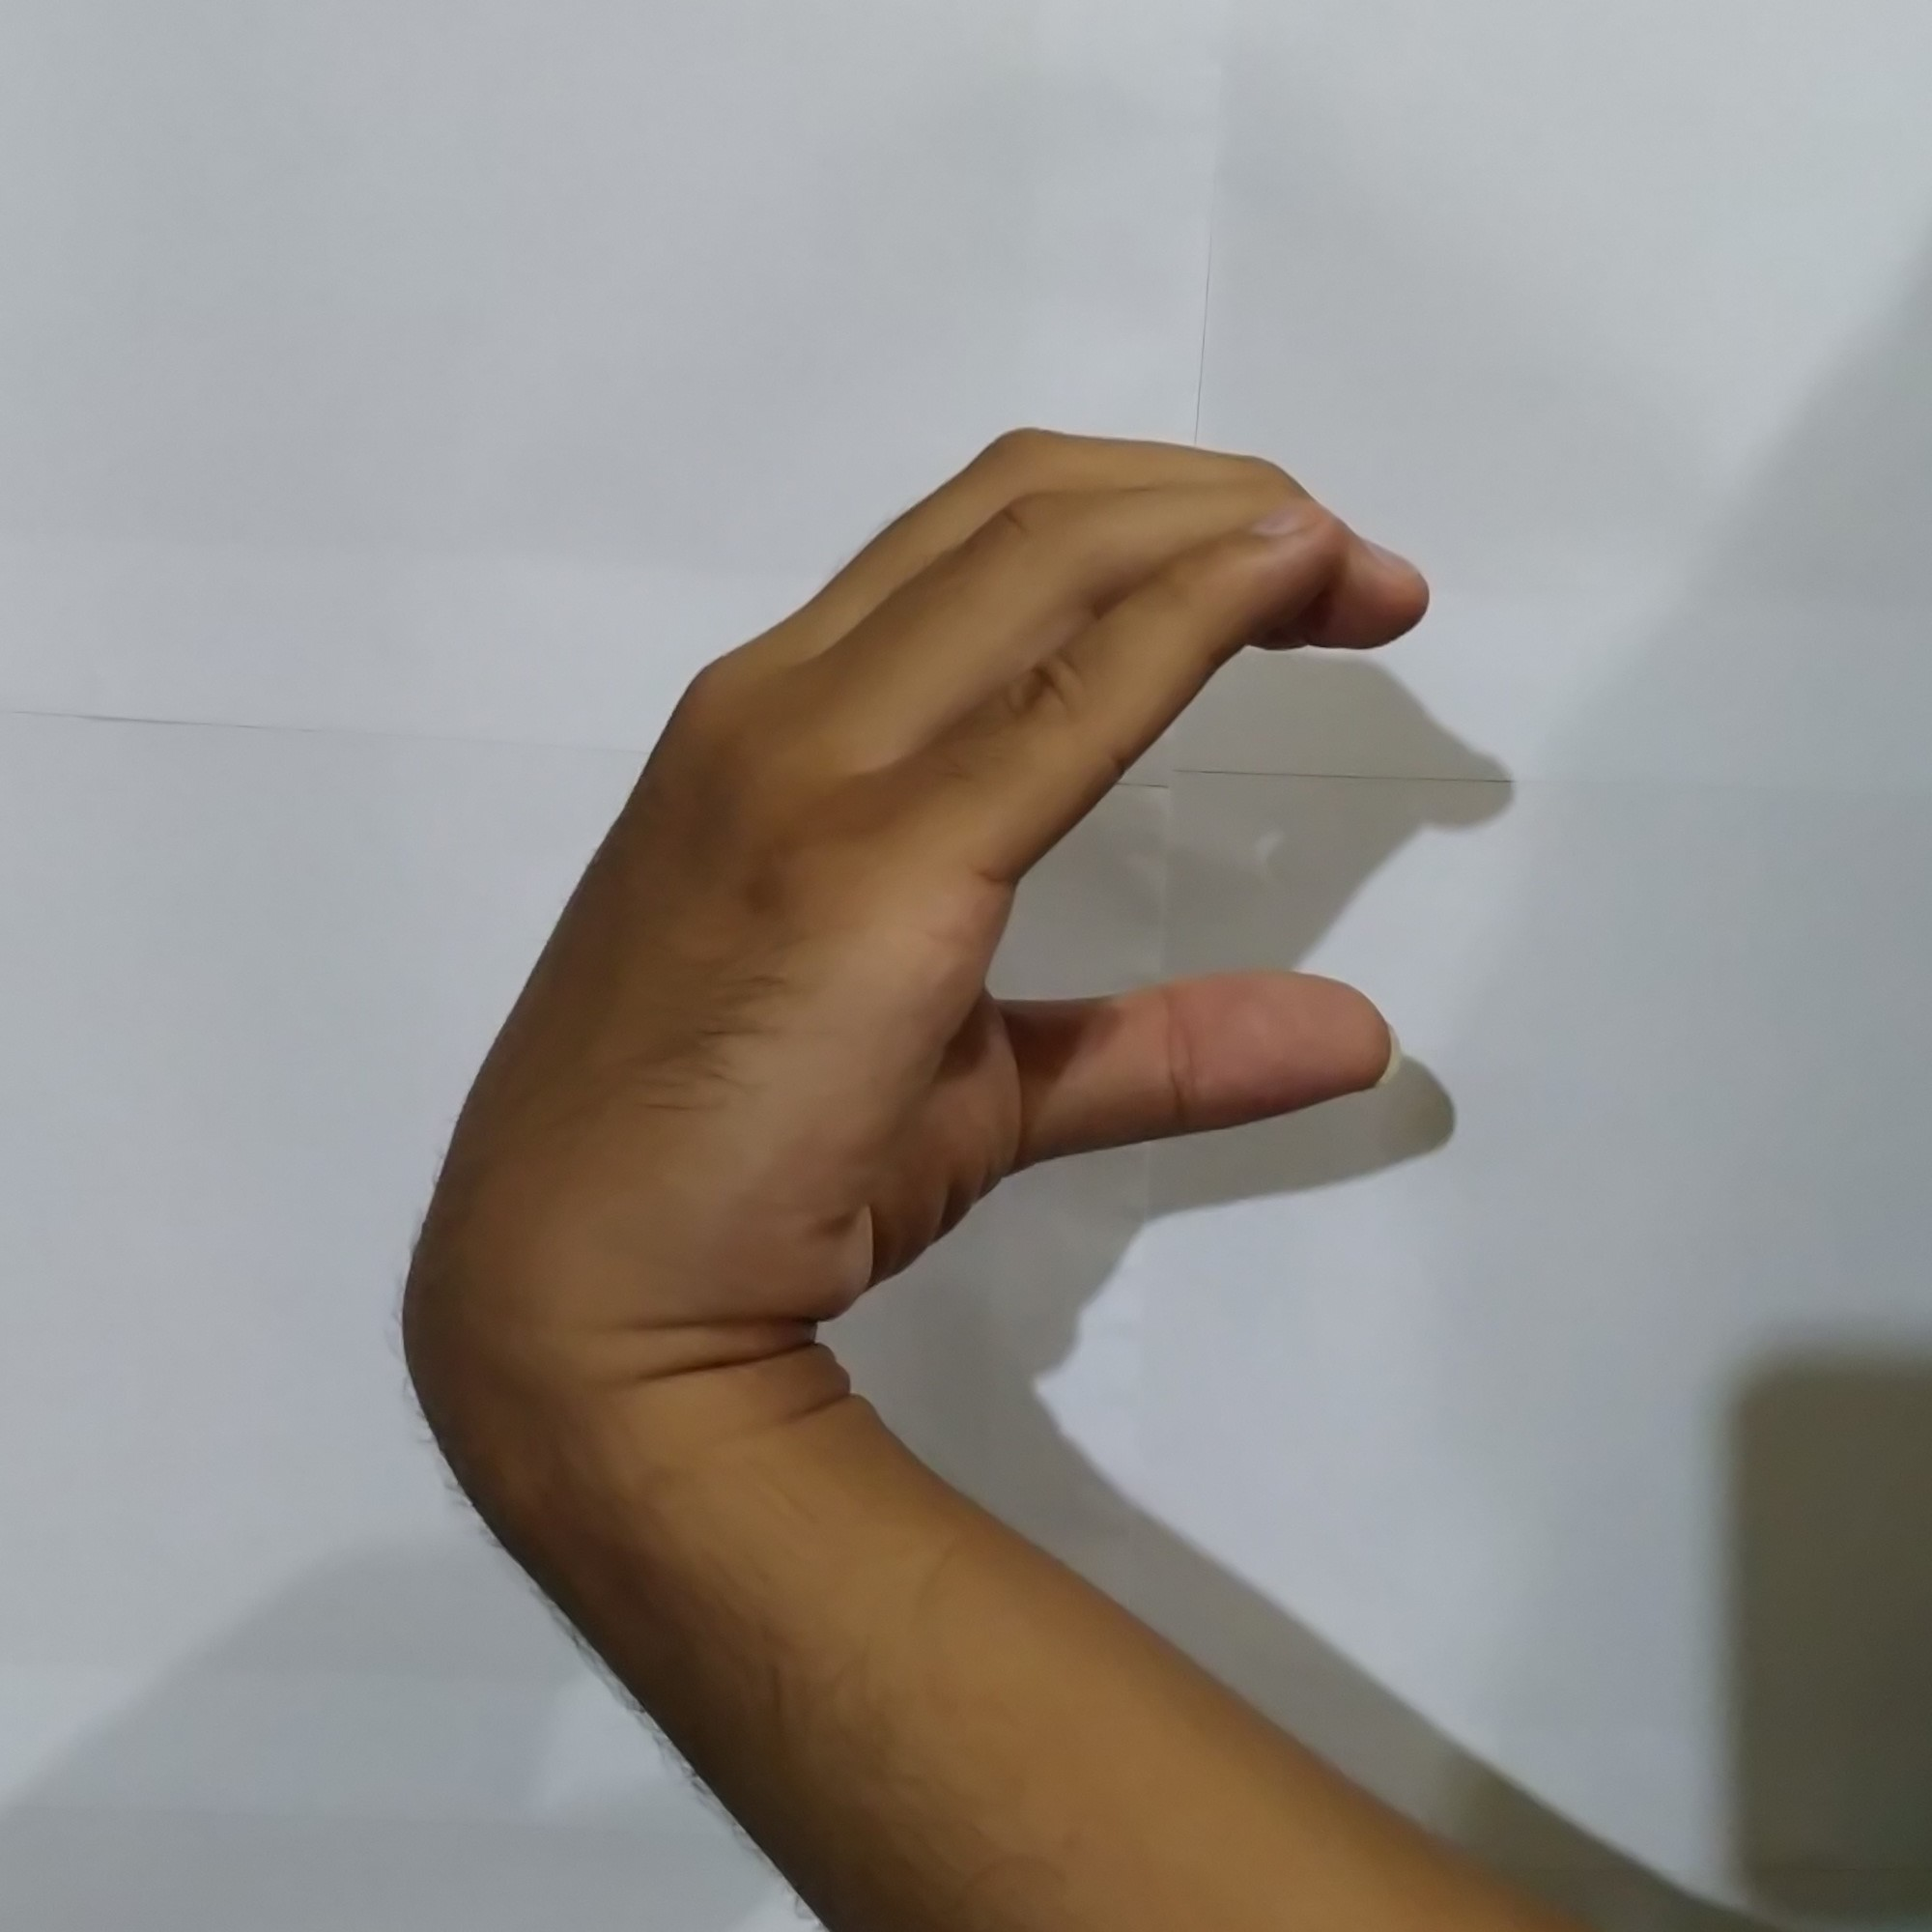C: (409, 403, 1451, 1343)
